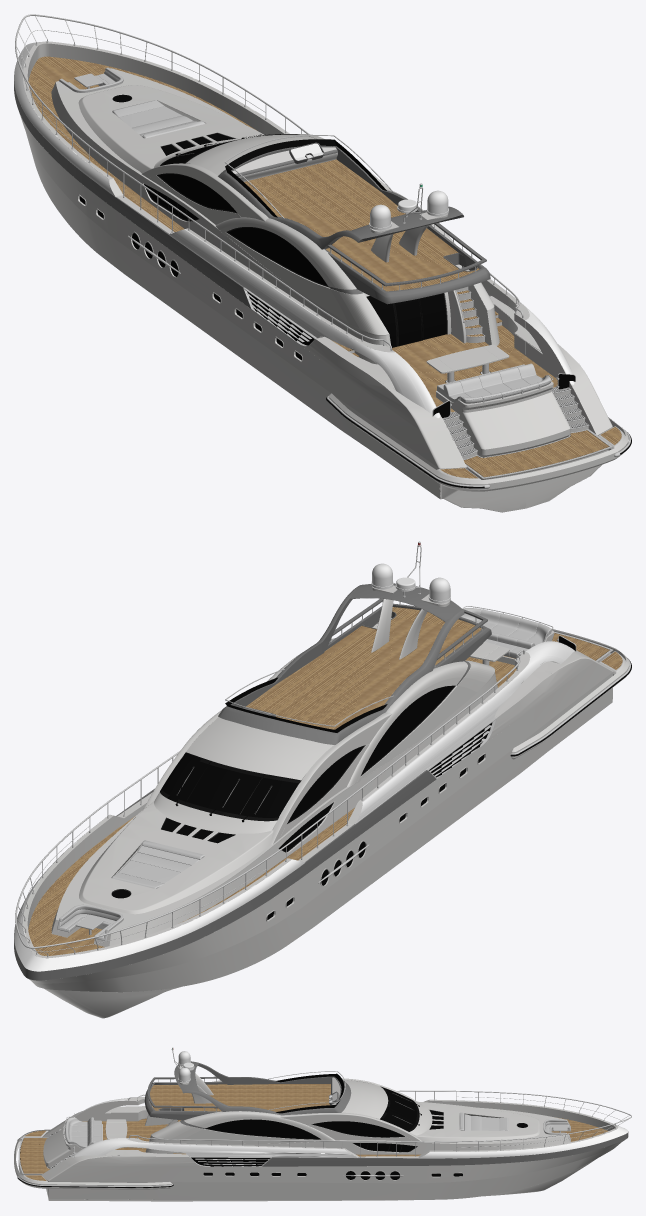
Rendered from yacht.glb.
The picture shows the model from 3 angles, top to bottom: view 1: azimuth 30°, elevation 25°; view 2: azimuth 150°, elevation 25°; view 3: azimuth 270°, elevation 25°; orthographic projection. The views are drawn at different scales.
Parts seen in each view (by area): view 1: Layer:Layer008, Layer:Layer008_01 - Default_0.001, Layer:Layer008_03 - Default_0.001; view 2: Layer:Layer008, Layer:Layer008_01 - Default_0.001, Layer:Layer008_03 - Default_0.001; view 3: Layer:Layer008, Layer:Layer008_01 - Default_0.001, Layer:Layer008_03 - Default_0.001.
Part boxes in pixels (<box>): Layer:Layer008: <box>14,14,631,488</box>; Layer:Layer008_01 - Default_0.001: <box>23,41,628,512</box>; Layer:Layer008_03 - Default_0.001: <box>243,287,317,346</box>; Layer:Layer008: <box>14,541,631,983</box>; Layer:Layer008_01 - Default_0.001: <box>23,585,629,1018</box>; Layer:Layer008_03 - Default_0.001: <box>427,717,496,778</box>; Layer:Layer008: <box>17,1047,631,1188</box>; Layer:Layer008_01 - Default_0.001: <box>14,1066,620,1201</box>; Layer:Layer008_03 - Default_0.001: <box>189,1156,271,1166</box>.
Bounding box in the file's own units: 9.92 × 11.68 × 45.21.
Materials: 22 (1 with a texture image).
